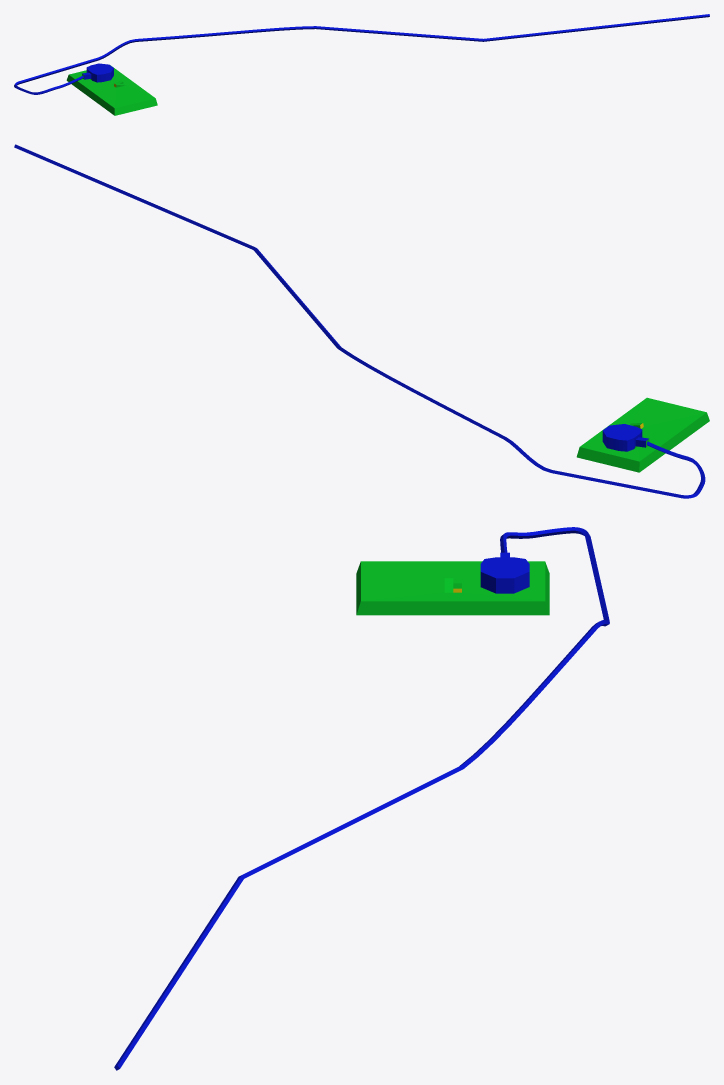
File: kontakt.FBX
3 views of the same model, one above another, from view 1: azimuth 30°, elevation 25°; view 2: azimuth 150°, elevation 25°; view 3: azimuth 270°, elevation 25° (orthographic). The views are drawn at different scales.
Parts seen in each view (by area): view 1: kontakt; view 2: kontakt; view 3: kontakt.
Boxes of the visible parts, box(x1,y1,x2,y2) form: kontakt: box(14, 14, 709, 115); kontakt: box(14, 144, 709, 498); kontakt: box(114, 527, 609, 1070).
Bounding box in the file's own units: 139 × 3.76 × 51.32.
